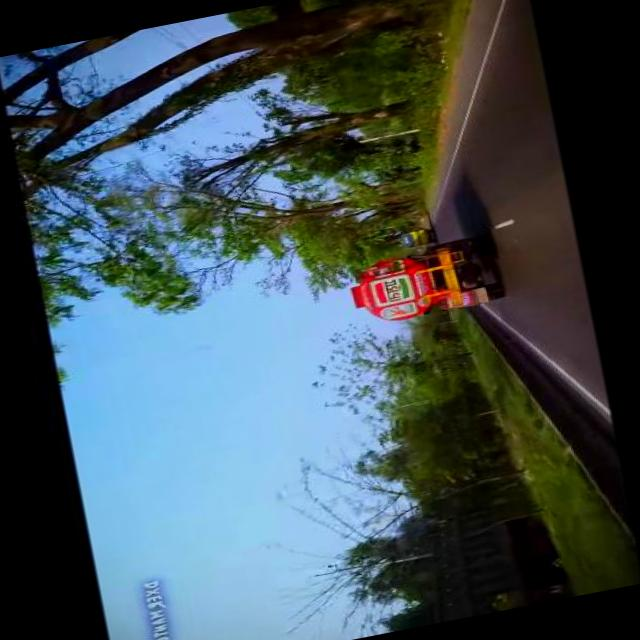bus: (395, 221, 440, 249)
truck: (340, 228, 510, 330)
